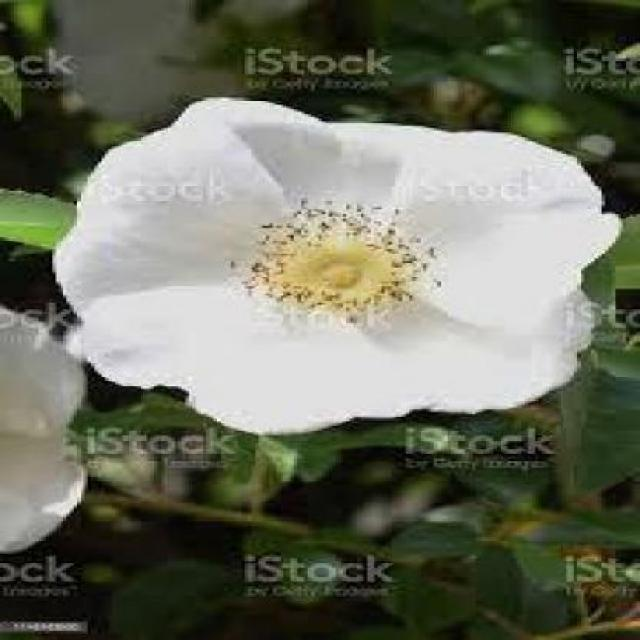flower: (75, 100, 614, 417)
